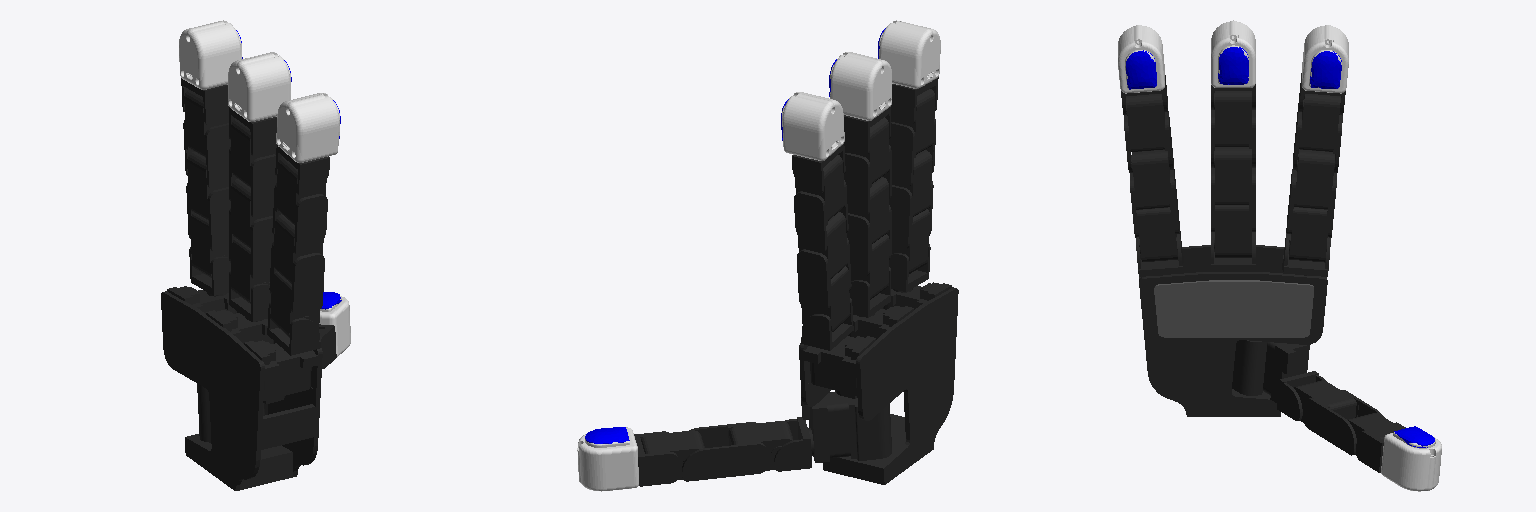
--- Facts derived from the render (not from the file) ---
Views: 3 orthographic renders of the robot side by side, from view 1: azimuth 30°, elevation 25°; view 2: azimuth 150°, elevation 25°; view 3: azimuth 270°, elevation 25°.
Robot: meta_hand — 37 links, 36 joints (16 revolute, 20 fixed); root link base_link; default pose: all joints at 0 but 1 set to mid-range because 0 is outside their limits (joint_12.0 = 0.9078).
Visible links, largest first — view 1: base_link, link_9.0, link_5.0, link_1.0, link_11.0_tip, link_7.0_tip, link_3.0_tip, link_10.0, link_2.0, link_6.0, link_8.0, link_11.0 (+7 smaller); view 2: base_link, link_14.0, link_12.0, link_1.0, link_5.0, link_9.0, link_3.0_tip, link_7.0_tip, link_11.0_tip, link_2.0, link_15.0_tip, link_15.0 (+10 smaller); view 3: base_link, palm_reskin_link, link_1.0, link_9.0, link_5.0, link_12.0, link_14.0, link_15.0_tip, link_2.0, link_10.0, link_6.0, link_11.0_tip (+10 smaller).
Boxes of the visible links, bbox=[...] form: base_link: bbox=[161, 286, 322, 490]; link_9.0: bbox=[269, 214, 324, 337]; link_5.0: bbox=[229, 179, 273, 303]; link_1.0: bbox=[186, 152, 230, 277]; link_11.0_tip: bbox=[276, 93, 339, 162]; link_7.0_tip: bbox=[228, 52, 290, 121]; link_3.0_tip: bbox=[179, 20, 241, 89]; link_10.0: bbox=[272, 156, 327, 256]; link_2.0: bbox=[183, 90, 230, 189]; link_6.0: bbox=[229, 119, 276, 218]; link_8.0: bbox=[267, 302, 320, 355]; link_11.0: bbox=[275, 145, 329, 197]; base_link: bbox=[799, 282, 958, 484]; link_14.0: bbox=[682, 421, 793, 481]; link_12.0: bbox=[801, 390, 891, 462]; link_1.0: bbox=[797, 212, 851, 331]; link_5.0: bbox=[847, 177, 891, 299]; link_9.0: bbox=[889, 150, 933, 273]; link_3.0_tip: bbox=[782, 92, 844, 160]; link_7.0_tip: bbox=[830, 52, 891, 120]; link_11.0_tip: bbox=[879, 20, 940, 88]; link_2.0: bbox=[794, 155, 848, 252]; link_15.0_tip: bbox=[577, 427, 638, 491]; link_15.0: bbox=[634, 430, 704, 486]; base_link: bbox=[1139, 245, 1327, 416]; palm_reskin_link: bbox=[1154, 280, 1313, 337]; link_1.0: bbox=[1287, 149, 1336, 262]; link_9.0: bbox=[1130, 150, 1179, 261]; link_5.0: bbox=[1211, 147, 1255, 257]; link_12.0: bbox=[1232, 340, 1309, 402]; link_14.0: bbox=[1294, 380, 1383, 455]; link_15.0_tip: bbox=[1381, 432, 1441, 491]; link_2.0: bbox=[1293, 94, 1342, 172]; link_10.0: bbox=[1124, 94, 1173, 172]; link_6.0: bbox=[1211, 91, 1255, 167]; link_11.0_tip: bbox=[1118, 25, 1164, 93].
Size in the robot's own frame: 0.1539 by 0.1952 by 0.2538 metres.
26 mesh visuals loaded from 12 distinct referenced files (12 OBJ).

The robot description file, URDF, robot "meta_hand":
<?xml version="1.0" ?>
<!-- =================================================================================== -->
<!-- |    This document was autogenerated by xacro from [local-path]/gum_ws/install/meta_hand_description/share/meta_hand_description/robots/meta_hand.urdf.xacro | -->
<!-- |    EDITING THIS FILE BY HAND IS NOT RECOMMENDED                                 | -->
<!-- =================================================================================== -->
<robot name="meta_hand">
  <!--0.002298-->
  <!-- Adapted from https://github.com/simlabrobotics/allegro_hand_ros/blob/master/allegro_hand_description/allegro_hand_description_left.xacro -->
  <!-- ======================== FINGER PARAMS ======================== -->
  <!-- ========================= THUMB PARAMS ========================= -->
  <!-- ========================= LIMITS ========================= -->
  <!-- ============================================================================= -->
  <!-- ============================================================================= -->
  <!-- ============================================================================= -->
  <!-- END THUMB MACRO -->
  <!-- [[END]] THREE FINGER MACRO -->
  <!-- ============================================================================= -->
  <!-- ============================================================================= -->
  <!-- ============================================================================= -->
  <!-- BASE -->
  <link name="base_link">
    <visual>
      <geometry>
        <mesh filename="./meshes/base_link.obj"/>
      </geometry>
      <origin rpy="0 0 0" xyz="0 0 0 "/>
      <material name="black">
        <color rgba="0.2 0.2 0.2 1"/>
      </material>
    </visual>
    <collision>
      <origin rpy="0 0 0" xyz="-0.009300 0 -0.0475"/>
      <geometry>
        <!-- <box size="0.0408 0.1130 0.095"/> -->
        <box size="0.03 0.07 0.07"/>
      </geometry>
    </collision>
    <inertial>
      <origin rpy="0 0 0" xyz="0 0 0.0475"/>
      <mass value="0.4154"/>
      <inertia ixx="1e-4" ixy="0.0" ixz="0.0" iyy="1e-4" iyz="0.0" izz="1e-4"/>
    </inertial>
  </link>
  <link name="palm_reskin_link">
    <visual>
      <geometry>
        <mesh filename="./meshes/reskin_palm_pad.obj" scale="0.001 0.001 0.001"/>
      </geometry>
      <origin rpy="1.5707963259 0 1.5707963259" xyz="0 0 0 "/>
      <material name="grey">
        <color rgba="0.4 0.4 0.4 1"/>
      </material>
    </visual>
    <collision>
     <geometry>
        <mesh filename="./meshes/reskin_palm_pad.obj" scale="0.001 0.001 0.001"/>
      </geometry>
      <origin rpy="1.5707963259 0 1.5707963259" xyz="0 0 0"/>
    </collision>
  </link>
  <joint name="palm_reskin_joint" type="fixed">
    <parent link="base_link"/>
    <child link="palm_reskin_link"/>
    <!-- <origin rpy="0 0 0" xyz="0.0175 -0.0457 -0.041"/> -->
    <origin rpy="0 0 0" xyz="0.014 -0.0457 -0.041"/>
  </joint>
  <!-- [LINK 0, 4, 8] -->
  <link name="link_0.0">
    <visual>
      <geometry>
        <mesh filename="./meshes/link_0.0.obj"/>
      </geometry>
      <material name="black">
        <color rgba=".2 .2 .2 1"/>
      </material>
    </visual>
    <collision>
      <geometry>
        <box size="0.0196 0.0275 0.0164"/>
      </geometry>
      <origin rpy="0 0 0" xyz="0 0 0.0082"/>
    </collision>
    <inertial>
      <mass value="0.0119"/>
      <origin rpy="0 0 0" xyz="0 0 0"/>
      <inertia ixx="1.01666658333e-06" ixy="0.0" ixz="0.0" iyy="6.47677333333e-07" iyz="0.0" izz="1.01666658333e-06"/>
    </inertial>
  </link>
  <joint name="joint_0.0" type="revolute">
    <axis xyz="0 0 1"/>
    <limit effort="0.35" lower="-0.582" upper="0.547" velocity="6.283"/>
    <parent link="base_link"/>
    <child link="link_0.0"/>
    <origin rpy="-0.08726646254999999 0 0" xyz="0 0.0435 -0.001542"/>
  </joint>
  <!-- [LINK 1, 5, 9] -->
  <link name="link_1.0">
    <visual>
      <geometry>
        <mesh filename="./meshes/link_1.0.obj"/>
      </geometry>
      <material name="black">
        <color rgba=".2 .2 .2 1"/>
      </material>
    </visual>
    <collision>
      <geometry>
        <box size="0.0196 0.0275 0.054"/>
      </geometry>
      <origin rpy="0 0 0" xyz="0 0 0.027"/>
    </collision>
    <inertial>
      <mass value="0.065"/>
      <origin rpy="0 0 0" xyz="0 0 0"/>
      <inertia ixx="7.95654166667e-05" ixy="1.7199e-05" ixz="8.75875e-06" iyy="2.47088833333e-05" iyz="2.413125e-05" izz="7.95654166667e-05"/>
    </inertial>
  </link>
  <joint name="joint_1.0" type="revolute">
    <limit effort="0.35" lower="-0.261" upper="1.734" velocity="6.283"/>
    <axis xyz="0 1 0"/>
    <parent link="link_0.0"/>
    <child link="link_1.0"/>
    <origin xyz="0 0 0.0164"/>
  </joint>
  <!-- [LINK 2, 6, 10]-->
  <link name="link_2.0">
    <visual>
      <geometry>
        <mesh filename="./meshes/link_2.0.obj"/>
      </geometry>
      <material name="black">
        <color rgba=".2 .2 .2 1"/>
      </material>
    </visual>
    <collision>
      <geometry>
        <box size="0.0196 0.0275 0.0384"/>
      </geometry>
      <origin rpy="0 0 0" xyz="0 0 0.0192"/>
    </collision>
    <inertial>
      <mass value="0.0355"/>
      <origin rpy="0 0 0" xyz="0 0 0"/>
      <inertia ixx="2.63979183333e-05" ixy="6.67968e-06" ixz="4.783625e-06" iyy="1.34948516667e-05" iyz="9.372e-06" izz="2.63979183333e-05"/>
    </inertial>
  </link>
  <joint name="joint_2.0" type="revolute">
    <axis xyz="0 1 0"/>
    <limit effort="0.35" lower="-0.271" upper="1.727825" velocity="6.283"/>
    <parent link="link_1.0"/>
    <child link="link_2.0"/>
    <origin xyz="0 0 0.054"/>
  </joint>
  <!-- [LINK 3, 7, 11] -->
  <link name="link_3.0">
    <visual>
      <geometry>
        <mesh filename="./meshes/link_3.0.obj"/>
      </geometry>
      <material name="black">
        <color rgba=".2 .2 .2 1"/>
      </material>
    </visual>
    <collision>
      <geometry>
        <sphere radius="0.0001"/>
      </geometry>
      <origin rpy="0 0 0" xyz="0 0 0.013349999999999999"/>
    </collision>
    <inertial>
      <mass value="0.0096"/>
      <origin rpy="0 0 0" xyz="0 0 0"/>
      <inertia ixx="4.701248e-06" ixy="1.255968e-06" ixz="1.2936e-06" iyy="3.649312e-06" iyz="1.7622e-06" izz="4.701248e-06"/>
    </inertial>
  </link>
  <joint name="joint_3.0" type="revolute">
    <axis xyz="0 1 0"/>
    <limit effort="0.35" lower="-0.281" upper="1.727825" velocity="6.283"/>
    <parent link="link_2.0"/>
    <child link="link_3.0"/>
    <origin xyz="0 0 0.0384"/>
  </joint>
  <!-- [FINGER TIP] -->
  
  <link name="link_3.0_tip">
    <visual>
      <geometry>
        <mesh filename="./meshes/digit.obj"/>
      </geometry>
      <material name="white">
        <color rgba=".9 .9 .9 1"/>
      </material>
    </visual>
    <collision>
      <geometry>
        <mesh filename="./meshes/digit.obj"/>
      </geometry>
      <!-- <origin rpy="0 0 0" xyz="0 0 0"/> -->
      <!-- <origin rpy="0 0 0" xyz="0.0036695246 0.0000277434 0.0124368531"/> -->
    </collision>
    <inertial>
      <mass value="0.0168"/>
      <!-- <origin rpy="0 0 0" xyz="0 0 0"/> -->
      <origin rpy="0 0 0" xyz="0 0 0.0147"/>
      <inertia ixx="9.68e-07" ixy="0" ixz="0" iyy="9.68e-07" iyz="0" izz="9.68e-07"/>
    </inertial>
  </link>
  <joint name="joint_3_tip" type="fixed">
    <parent link="link_3.0"/>
    <child link="link_3.0_tip"/>
    <!-- <origin rpy="0 0 -1.5707963259" xyz="0 0 0.0147"/> -->
    <origin rpy="0 0 0" xyz="0 0 0.0147"/>
    </joint>
  <link name="digit_fingertip_3.0">
    <visual>
       <geometry>
       	   <mesh filename="./meshes/digit_v1_fingertip_pad.obj"/>
       </geometry>
       <material name="blue">
          <color rgba="0 0 1 1" />
       </material>
    </visual>
    <collision>
    	<geometry>
            <mesh filename="./meshes/digit_v1_fingertip_pad.obj"/>
      </geometry>
    </collision>
    <inertial>
      <mass value="0.0168"/>
      <!-- <origin rpy="0 0 0" xyz="0 0 0"/> -->
      <origin rpy="0 0 0" xyz="0 0 0"/>
      <inertia ixx="9.68e-07" ixy="0" ixz="0" iyy="9.68e-07" iyz="0" izz="9.68e-07"/>
    </inertial>
  </link>
  <joint name="joint_3.0_digit_fingertip" type="fixed">
    <parent link="link_3.0_tip"/>
    <child link="digit_fingertip_3.0"/>
    <origin rpy="0 0 0" xyz="0.0005 -0.009 0.0"/>
  </joint>
 
  <link name="reskin_link_1.0a">
    <!-- <visual>
      <geometry>
        <mesh filename="./meshes/reskin_finger_pad.obj" scale="0.001 0.001 0.001"/>
      </geometry>
      <origin rpy="-1.5707963259 0 -1.5707963259" xyz="0 0 0"/>
      <material name="grey">
        <color rgba="0.4 0.4 0.4 1"/>
      </material>
    </visual> -->
      <!-- <collision>
      <geometry>
         <mesh filename="./meshes/reskin_finger_pad.obj" scale="0.001 0.001 0.03"/>
      </geometry>
      <origin rpy="-1.5707963259 0 -1.5707963259" xyz="0 0 0"/>
    </collision> -->
  </link>
  <joint name="reskin_joint_1a" type="fixed">
    <parent link="link_1.0"/>
    <child link="reskin_link_1.0a"/>
    <origin rpy="0 0 0" xyz="0.0118 0.009 0.022"/>
  </joint>
  <link name="reskin_link_1.0b">
    <!-- <visual>
      <geometry>
        <mesh filename="./meshes/reskin_finger_pad.obj" scale="0.001 0.001 0.001"/>
      </geometry>
      <origin rpy="-1.5707963259 0 -1.5707963259" xyz="0 0 0"/>
      <material name="grey">
        <color rgba="0.4 0.4 0.4 1"/>
      </material>
    </visual> -->
    <!-- <collision>
    <geometry>
        <mesh filename="./meshes/reskin_finger_pad.obj" scale="0.001 0.001 0.03"/>
      </geometry>
      <origin rpy="-1.5707963259 0 -1.5707963259" xyz="0 0 0"/>
    </collision> -->
  </link>
  <joint name="reskin_joint_1b" type="fixed">
    <parent link="link_1.0"/>
    <child link="reskin_link_1.0b"/>
    <origin rpy="0 0 0" xyz="0.0118 0.009 0.053"/>
  </joint>
  <link name="reskin_link_2.0">
    <!-- <visual>
      <geometry>
        <mesh filename="./meshes/reskin_finger_pad.obj" scale="0.001 0.001 0.001"/>
      </geometry>
      <origin rpy="-1.5707963259 0 -1.5707963259" xyz="0 0 0"/>
      <material name="grey">
        <color rgba="0.4 0.4 0.4 1"/>
      </material>
    </visual> -->
    <!-- <collision>
    <geometry>
        <mesh filename="./meshes/reskin_finger_pad.obj" scale="0.001 0.001 0.03"/>
      </geometry>
      <origin rpy="-1.5707963259 0 -1.5707963259" xyz="0 0 0"/>
    </collision> -->
  </link>
  <joint name="reskin_joint_2" type="fixed">
    <parent link="link_2.0"/>
    <child link="reskin_link_2.0"/>
    <origin rpy="0 0 0" xyz="0.0118 0.009 0.0375"/>
  </joint>
  <!-- [LINK 0, 4, 8] -->
  <link name="link_4.0">
    <visual>
      <geometry>
        <mesh filename="./meshes/link_0.0.obj"/>
      </geometry>
      <material name="black">
        <color rgba=".2 .2 .2 1"/>
      </material>
    </visual>
    <collision>
      <geometry>
        <box size="0.0196 0.0275 0.0164"/>
      </geometry>
      <origin rpy="0 0 0" xyz="0 0 0.0082"/>
    </collision>
    <inertial>
      <mass value="0.0119"/>
      <origin rpy="0 0 0" xyz="0 0 0"/>
      <inertia ixx="1.01666658333e-06" ixy="0.0" ixz="0.0" iyy="6.47677333333e-07" iyz="0.0" izz="1.01666658333e-06"/>
    </inertial>
  </link>
  <joint name="joint_4.0" type="revolute">
    <axis xyz="0 0 1"/>
    <limit effort="0.35" lower="-0.581" upper="0.560" velocity="6.283"/>
    <parent link="base_link"/>
    <child link="link_4.0"/>
    <origin rpy="0.0 0 0" xyz="0 0 0.0007"/>
  </joint>
  <!-- [LINK 1, 5, 9] -->
  <link name="link_5.0">
    <visual>
      <geometry>
        <mesh filename="./meshes/link_1.0.obj"/>
      </geometry>
      <material name="black">
        <color rgba=".2 .2 .2 1"/>
      </material>
    </visual>
    <collision>
      <geometry>
        <box size="0.0196 0.0275 0.054"/>
      </geometry>
      <origin rpy="0 0 0" xyz="0 0 0.027"/>
    </collision>
    <inertial>
      <mass value="0.065"/>
      <origin rpy="0 0 0" xyz="0 0 0"/>
      <inertia ixx="7.95654166667e-05" ixy="1.7199e-05" ixz="8.75875e-06" iyy="2.47088833333e-05" iyz="2.413125e-05" izz="7.95654166667e-05"/>
    </inertial>
  </link>
  <joint name="joint_5.0" type="revolute">
    <limit effort="0.35" lower="-0.260" upper="1.7703" velocity="6.283"/>
    <axis xyz="0 1 0"/>
    <parent link="link_4.0"/>
    <child link="link_5.0"/>
    <origin xyz="0 0 0.0164"/>
  </joint>
  <!-- [LINK 2, 6, 10]-->
  <link name="link_6.0">
    <visual>
      <geometry>
        <mesh filename="./meshes/link_2.0.obj"/>
      </geometry>
      <material name="black">
        <color rgba=".2 .2 .2 1"/>
      </material>
    </visual>
    <collision>
      <geometry>
        <box size="0.0196 0.0275 0.0384"/>
      </geometry>
      <origin rpy="0 0 0" xyz="0 0 0.0192"/>
    </collision>
    <inertial>
      <mass value="0.0355"/>
      <origin rpy="0 0 0" xyz="0 0 0"/>
      <inertia ixx="2.63979183333e-05" ixy="6.67968e-06" ixz="4.783625e-06" iyy="1.34948516667e-05" iyz="9.372e-06" izz="2.63979183333e-05"/>
    </inertial>
  </link>
  <joint name="joint_6.0" type="revolute">
    <axis xyz="0 1 0"/>
    <limit effort="0.35" lower="-0.305" upper="1.296" velocity="6.283"/>
    <parent link="link_5.0"/>
    <child link="link_6.0"/>
    <origin xyz="0 0 0.054"/>
  </joint>
  <!-- [LINK 3, 7, 11] -->
  <link name="link_7.0">
    <visual>
      <geometry>
        <mesh filename="./meshes/link_3.0.obj"/>
      </geometry>
      <material name="black">
        <color rgba=".2 .2 .2 1"/>
      </material>
    </visual>
    <collision>
      <geometry>
        <sphere radius="0.0001"/>
      </geometry>
      <origin rpy="0 0 0" xyz="0 0 0.013349999999999999"/>
    </collision>
    <inertial>
      <mass value="0.0096"/>
      <origin rpy="0 0 0" xyz="0 0 0"/>
      <inertia ixx="4.701248e-06" ixy="1.255968e-06" ixz="1.2936e-06" iyy="3.649312e-06" iyz="1.7622e-06" izz="4.701248e-06"/>
    </inertial>
  </link>
  <joint name="joint_7.0" type="revolute">
    <axis xyz="0 1 0"/>
    <limit effort="0.35" lower="-0.3047" upper="1.176" velocity="6.283"/>
    <parent link="link_6.0"/>
    <child link="link_7.0"/>
    <origin xyz="0 0 0.0384"/>
  </joint>
  <!-- [FINGER TIP] -->
  <link name="link_7.0_tip">
    <visual>
      <geometry>
        <mesh filename="./meshes/digit.obj"/>
      </geometry>
      <material name="white">
        <color rgba=".9 .9 .9 1"/>
      </material>
    </visual>
    <collision>
      <geometry>
        <mesh filename="./meshes/digit.obj"/>
      </geometry>
      <origin rpy="0 0 0" xyz="0 0 0"/>
      <!-- <origin rpy="0 0 0" xyz="0.0036695246 0.0000277434 0.0124368531"/> -->
    </collision>
    <inertial>
      <mass value="0.0168"/>
      <!-- <origin rpy="0 0 0" xyz="0 0 0"/> -->
      <origin rpy="0 0 0" xyz="0 0 0.0147"/>
      <inertia ixx="9.68e-07" ixy="0" ixz="0" iyy="9.68e-07" iyz="0" izz="9.68e-07"/>
    </inertial>
  </link>
  <joint name="joint_7_tip" type="fixed">
    <parent link="link_7.0"/>
    <child link="link_7.0_tip"/>
    <origin rpy="0 0 0" xyz="0 0 0.0147"/>
  </joint>
    <link name="digit_fingertip_7.0">
    <visual>
       <geometry>
       	   <mesh filename="./meshes/digit_v1_fingertip_pad.obj"/>
       </geometry>
       <material name="blue">
          <color rgba="0 0 1 1" />
       </material>
    </visual>
    <collision>
    	<geometry>
            <mesh filename="./meshes/digit_v1_fingertip_pad.obj"/>
      </geometry>
    </collision>
    <inertial>
      <mass value="0.0168"/>
      <!-- <origin rpy="0 0 0" xyz="0 0 0"/> -->
      <origin rpy="0 0 0" xyz="0 0 0"/>
      <inertia ixx="9.68e-07" ixy="0" ixz="0" iyy="9.68e-07" iyz="0" izz="9.68e-07"/>
    </inertial>
  </link>
  <joint name="joint_7.0_digit_fingertip" type="fixed">
    <parent link="link_7.0_tip"/>
    <child link="digit_fingertip_7.0"/>
    <origin rpy="0 0 0" xyz="0.0005 -0.009 0.0"/>
  </joint>
  <link name="reskin_link_5.0a">
    <!-- <visual>
      <geometry>
        <mesh filename="./meshes/reskin_finger_pad.obj" scale="0.001 0.001 0.001"/>
      </geometry>
      <origin rpy="-1.5707963259 0 -1.5707963259" xyz="0 0 0"/>
      <material name="grey">
        <color rgba="0.4 0.4 0.4 1"/>
      </material>
    </visual> -->
    <!-- <collision>
    <geometry>
        <mesh filename="./meshes/reskin_finger_pad.obj" scale="0.001 0.001 0.03"/>
      </geometry>
      <origin rpy="-1.5707963259 0 -1.5707963259" xyz="0 0 0"/>
    </collision> -->
  </link>
  <joint name="reskin_joint_5a" type="fixed">
    <parent link="link_5.0"/>
    <child link="reskin_link_5.0a"/>
    <origin rpy="0 0 0" xyz="0.0118 0.009 0.022"/>
  </joint>
  <link name="reskin_link_5.0b">
    <!-- <visual>
      <geometry>
        <mesh filename="./meshes/reskin_finger_pad.obj" scale="0.001 0.001 0.001"/>
      </geometry>
      <origin rpy="-1.5707963259 0 -1.5707963259" xyz="0 0 0"/>
      <material name="grey">
        <color rgba="0.4 0.4 0.4 1"/>
      </material>
    </visual> -->
    <!-- <collision>
    <geometry>
        <mesh filename="./meshes/reskin_finger_pad.obj" scale="0.001 0.001 0.03"/>
      </geometry>
      <origin rpy="-1.5707963259 0 -1.5707963259" xyz="0 0 0"/>
    </collision> -->
  </link>
  <joint name="reskin_joint_5b" type="fixed">
    <parent link="link_5.0"/>
    <child link="reskin_link_5.0b"/>
    <origin rpy="0 0 0" xyz="0.0118 0.009 0.053"/>
  </joint>
  <link name="reskin_link_6.0">
    <!-- <visual>
      <geometry>
        <mesh filename="./meshes/reskin_finger_pad.obj" scale="0.001 0.001 0.001"/>
      </geometry>
      <origin rpy="-1.5707963259 0 -1.5707963259" xyz="0 0 0"/>
      <material name="grey">
        <color rgba="0.4 0.4 0.4 1"/>
      </material>
    </visual> -->
    <!-- <collision>
        <geometry>
        <mesh filename="./meshes/reskin_finger_pad.obj" scale="0.001 0.001 0.03"/>
        </geometry>
      <origin rpy="-1.5707963259 0 -1.5707963259" xyz="0 0 0"/>
    </collision> -->
  </link>
  <joint name="reskin_joint_6" type="fixed">
    <parent link="link_6.0"/>
    <child link="reskin_link_6.0"/>
    <origin rpy="0 0 0" xyz="0.0118 0.009 0.0375"/>
  </joint>
  <!-- [LINK 0, 4, 8] -->
  <link name="link_8.0">
    <visual>
      <geometry>
        <mesh filename="./meshes/link_0.0.obj"/>
      </geometry>
      <material name="black">
        <color rgba=".2 .2 .2 1"/>
      </material>
    </visual>
    <collision>
      <geometry>
        <box size="0.0196 0.0275 0.0164"/>
      </geometry>
      <origin rpy="0 0 0" xyz="0 0 0.0082"/>
    </collision>
    <inertial>
      <mass value="0.0119"/>
      <origin rpy="0 0 0" xyz="0 0 0"/>
      <inertia ixx="1.01666658333e-06" ixy="0.0" ixz="0.0" iyy="6.47677333333e-07" iyz="0.0" izz="1.01666658333e-06"/>
    </inertial>
  </link>
  <joint name="joint_8.0" type="revolute">
    <axis xyz="0 0 1"/>
    <limit effort="0.35" lower="-0.584" upper="0.554" velocity="6.283"/>
    <parent link="base_link"/>
    <child link="link_8.0"/>
    <origin rpy="0.08726646254999999 0 0" xyz="0 -0.0435 -0.001542"/>
  </joint>
  <!-- [LINK 1, 5, 9] -->
  <link name="link_9.0">
    <visual>
      <geometry>
        <mesh filename="./meshes/link_1.0.obj"/>
      </geometry>
      <material name="black">
        <color rgba=".2 .2 .2 1"/>
      </material>
    </visual>
    <collision>
      <geometry>
        <box size="0.0196 0.0275 0.054"/>
      </geometry>
      <origin rpy="0 0 0" xyz="0 0 0.027"/>
    </collision>
    <inertial>
      <mass value="0.065"/>
      <origin rpy="0 0 0" xyz="0 0 0"/>
      <inertia ixx="7.95654166667e-05" ixy="1.7199e-05" ixz="8.75875e-06" iyy="2.47088833333e-05" iyz="2.413125e-05" izz="7.95654166667e-05"/>
    </inertial>
  </link>
  <joint name="joint_9.0" type="revolute">
    <limit effort="0.35" lower="-0.257" upper="1.752" velocity="6.283"/>
    <axis xyz="0 1 0"/>
    <parent link="link_8.0"/>
    <child link="link_9.0"/>
    <origin xyz="0 0 0.0164"/>
  </joint>
  <!-- [LINK 2, 6, 10]-->
  <link name="link_10.0">
    <visual>
      <geometry>
        <mesh filename="./meshes/link_2.0.obj"/>
      </geometry>
      <material name="black">
        <color rgba=".2 .2 .2 1"/>
      </material>
    </visual>
    <collision>
      <geometry>
        <box size="0.0196 0.0275 0.0384"/>
      </geometry>
      <origin rpy="0 0 0" xyz="0 0 0.0192"/>
    </collision>
    <inertial>
      <mass value="0.0355"/>
      <origin rpy="0 0 0" xyz="0 0 0"/>
      <inertia ixx="2.63979183333e-05" ixy="6.67968e-06" ixz="4.783625e-06" iyy="1.34948516667e-05" iyz="9.372e-06" izz="2.63979183333e-05"/>
    </inertial>
  </link>
  <joint name="joint_10.0" type="revolute">
    <axis xyz="0 1 0"/>
    <limit effort="0.35" lower="-0.263" upper="1.346" velocity="6.283"/>
    <parent link="link_9.0"/>
    <child link="link_10.0"/>
    <origin xyz="0 0 0.054"/>
  </joint>
  <!-- [LINK 3, 7, 11] -->
  <link name="link_11.0">
    <visual>
      <geometry>
        <mesh filename="./meshes/link_3.0.obj"/>
      </geometry>
      <material name="black">
        <color rgba=".2 .2 .2 1"/>
      </material>
    </visual>
    <collision>
      <geometry>
        <sphere radius="0.0001"/>
      </geometry>
      <origin rpy="0 0 0" xyz="0 0 0.013349999999999999"/>
    </collision>
    <inertial>
      <mass value="0.0096"/>
      <origin rpy="0 0 0" xyz="0 0 0"/>
      <inertia ixx="4.701248e-06" ixy="1.255968e-06" ixz="1.2936e-06" iyy="3.649312e-06" iyz="1.7622e-06" izz="4.701248e-06"/>
    </inertial>
  </link>
  <joint name="joint_11.0" type="revolute">
    <axis xyz="0 1 0"/>
    <limit effort="0.35" lower="-0.284" upper="1.170" velocity="6.283"/>
    <parent link="link_10.0"/>
    <child link="link_11.0"/>
    <origin xyz="0 0 0.0384"/>
  </joint>
  <!-- [FINGER TIP] -->
  <link name="link_11.0_tip">
    <visual>
      <geometry>
        <mesh filename="./meshes/digit.obj"/>
      </geometry>
      <material name="white">
        <color rgba=".9 .9 .9 1"/>
      </material>
    </visual>
    <collision>
      <geometry>
       <mesh filename="./meshes/digit.obj"/>
      </geometry>
      <origin rpy="0 0 0" xyz="0 0 0"/>
      <origin rpy="0 0 0" xyz="0.0036695246 0.0000277434 0.0124368531"/> 
      <origin rpy="0 0 0" xyz="0 0 0"/>
    </collision> 
    <inertial>
      <mass value="0.0168"/>
      <!-- <origin rpy="0 0 0" xyz="0 0 0"/> -->
      
      <inertia ixx="9.68e-07" ixy="0" ixz="0" iyy="9.68e-07" iyz="0" izz="9.68e-07"/>
    </inertial>
  </link>
  <joint name="joint_11_tip" type="fixed">
    <parent link="link_11.0"/>
    <child link="link_11.0_tip"/>
    <!-- <origin rpy="0 0 1.5707963259" xyz="0 0 0.0147"/> -->
    <origin rpy="0 0 0" xyz="0 0 0.0147"/>
  </joint>

  <link name="digit_fingertip_11.0">
    <visual>
       <geometry>
       	   <mesh filename="./meshes/digit_v1_fingertip_pad.obj"/>
       </geometry>
       <material name="blue">
          <color rgba="0 0 1 1" />
       </material>
    </visual>
    <collision>
    	<geometry>
            <mesh filename="./meshes/digit_v1_fingertip_pad.obj"/>
      </geometry>
      
    </collision>
    <inertial>
      <mass value="0.0168"/>
      <!-- <origin rpy="0 0 0" xyz="0 0 0"/> -->
      <origin rpy="0 0 0" xyz="0 0 0"/>
      <inertia ixx="9.68e-07" ixy="0" ixz="0" iyy="9.68e-07" iyz="0" izz="9.68e-07"/>
    </inertial>
  </link>
  <joint name="joint_11.0_digit_fingertip" type="fixed">
    <parent link="link_11.0"/>
    <child link="digit_fingertip_11.0"/>
    <origin rpy="0 0 0" xyz="0.0005 -0.009 0.0147"/>
  </joint>

  <link name="reskin_link_9.0a">
    <!-- <visual>
      <geometry>
        <mesh filename="./meshes/reskin_finger_pad.obj" scale="0.001 0.001 0.001"/>
      </geometry>
      <origin rpy="-1.5707963259 0 -1.5707963259" xyz="0 0 0"/>
      <material name="grey">
        <color rgba="0.4 0.4 0.4 1"/>
      </material>
    </visual> -->
    <!-- <collision>
    <geometry>
        <mesh filename="./meshes/reskin_finger_pad.obj" scale="0.001 0.001 0.03"/>
      </geometry>
      <origin rpy="-1.5707963259 0 -1.5707963259" xyz="0 0 0"/>
    </collision> -->
  </link>
  <joint name="reskin_joint_9a" type="fixed">
    <parent link="link_9.0"/>
    <child link="reskin_link_9.0a"/>
    <origin rpy="0 0 0" xyz="0.0118 0.009 0.022"/>
  </joint>
  <link name="reskin_link_9.0b">
    <!-- <visual>
      <geometry>
        <mesh filename="./meshes/reskin_finger_pad.obj" scale="0.001 0.001 0.001"/>
      </geometry>
      <origin rpy="-1.5707963259 0 -1.5707963259" xyz="0 0 0"/>
      <material name="grey">
        <color rgba="0.4 0.4 0.4 1"/>
      </material>
    </visual> -->
    <!-- <collision>
    <geometry>
        <mesh filename="./meshes/reskin_finger_pad.obj" scale="0.001 0.001 0.03"/>
      </geometry>
      <origin rpy="-1.5707963259 0 -1.5707963259" xyz="0 0 0"/>
    </collision> -->
  </link>
  <joint name="reskin_joint_9b" type="fixed">
    <parent link="link_9.0"/>
    <child link="reskin_link_9.0b"/>
    <origin rpy="0 0 0" xyz="0.0118 0.009 0.053"/>
  </joint>
  <link name="reskin_link_10.0">
    <!-- <visual>
      <geometry>
        <mesh filename="./meshes/reskin_finger_pad.obj" scale="0.001 0.001 0.001"/>
      </geometry>
      <origin rpy="-1.5707963259 0 -1.5707963259" xyz="0 0 0"/>
      <material name="grey">
        <color rgba="0.4 0.4 0.4 1"/>
      </material>
    </visual> -->
    <!-- <collision>
      <geometry>
        <mesh filename="./meshes/reskin_finger_pad.obj" scale="0.001 0.001 0.03"/>
      </geometry>
      <origin rpy="-1.5707963259 0 -1.5707963259" xyz="0 0 0"/>
    </collision> -->
  </link>
  <joint name="reskin_joint_10" type="fixed">
    <parent link="link_10.0"/>
    <child link="reskin_link_10.0"/>
    <origin rpy="0 0 0" xyz="0.0118 0.009 0.0375"/>
  </joint>
  <!-- [LINK 12] -->
  <link name="link_12.0">
    <visual>
      <geometry>
        <mesh filename="./meshes/link_12.0_right.obj"/>
      </geometry>
      <material name="black">
        <color rgba=".2 .2 .2 1"/>
      </material>
    </visual>
    <collision>
      <geometry>
        <box size="0.0358 0.034 0.0455"/>
      </geometry>
      <origin rpy="0 0 0" xyz="-0.0179 0.009 0.0145"/>
    </collision>
    <inertial>
      <mass value="0.0176"/>
      <origin rpy="0 0 0" xyz="0 0 0"/>
      <inertia ixx="1.89273333333e-5" ixy="7.16716e-06" ixz="5.35568e-06" iyy="1.43008213333e-05" iyz="6.8068e-06" izz="1.89273333333e-05"/>
    </inertial>
  </link>
  <joint name="joint_12.0" type="revolute">
    <axis xyz="-1 0 0"/>
    <limit effort="0.35" lower="0.254" upper="1.5616" velocity="6.283"/>
    <parent link="base_link"/>
    <child link="link_12.0"/>
    <origin rpy="0 -1.6580627884499999 -1.5707963259" xyz="-0.0182 0.019333 -0.045987"/>
  </joint>
  <!-- [LINK 13] -->
  <link name="link_13.0">
    <visual>
      <geometry>
        <mesh filename="./meshes/link_13.0.obj"/>
      </geometry>
      <material name="black">
        <color rgba=".2 .2 .2 1"/>
      </material>
    </visual>
    <collision>
      <geometry>
        <box size="0.0196 0.0275 0.0177"/>
      </geometry>
      <origin rpy="0 0 0" xyz="0 0 0.00885"/>
    </collision>
    <inertial>
      <mass value="0.0119"/>
      <origin rpy="0 0 0" xyz="0 0 0"/>
      <inertia ixx="4.24250866667e-06" ixy="1.032087e-06" ixz="1.603525e-06" iyy="4.52362633333e-06" iyz="1.44808125e-06" izz="4.24250866667e-06"/>
    </inertial>
  </link>
  <joint name="joint_13.0" type="revolute">
    <axis xyz="0 0 1"/>
    <limit effort="0.35" lower="-0.343" upper="1.167" velocity="6.283"/>
    <parent link="link_12.0"/>
    <child link="link_13.0"/>
    <origin xyz="-0.027 0.005 0.0399"/>
  </joint>
  <!-- [LINK 14] -->
  <link name="link_14.0">
    <visual>
      <geometry>
        <mesh filename="./meshes/link_14.0.obj"/>
      </geometry>
      <material name="black">
        <color rgba=".2 .2 .2 1"/>
      </material>
    </visual>
    <collision>
      <geometry>
        <box size="0.0196 0.0275 0.0514"/>
      </geometry>
      <origin rpy="0 0 0" xyz="0 0 0.0257"/>
    </collision>
    <inertial>
      <mass value="0.038"/>
      <origin rpy="0 0 0" xyz="0 0 0"/>
      <inertia ixx="4.30439933333e-05" ixy="9.57068e-06" ixz="5.1205e-06" iyy="1.44451933333e-05" iyz="1.342825e-05" izz="4.30439933333e-05"/>
    </inertial>
  </link>
  <joint name="joint_14.0" type="revolute">
    <axis xyz="0 1 0"/>
    <limit effort="0.35" lower="-0.239" upper="1.055" velocity="6.238"/>
    <parent link="link_13.0"/>
    <child link="link_14.0"/>
    <origin xyz="0 0 0.0177"/>
  </joint>
  <!-- [LINK 15] -->
  <link name="link_15.0">
    <visual>
      <geometry>
        <mesh filename="./meshes/link_15.0.obj"/>
      </geometry>
      <material name="black">
        <color rgba=".2 .2 .2 1"/>
      </material>
    </visual>
    <collision>
      <geometry>
        <sphere radius="0.0001"/>
      </geometry>
      <origin rpy="0 0 0" xyz="0 0 0.021150000000000002"/>
    </collision>
    <inertial>
      <mass value="0.0388"/>
      <origin rpy="0 0 0" xyz="0 0 0"/>
      <inertia ixx="3.29223173333e-05" ixy="8.042076e-06" ixz="5.2283e-06" iyy="1.47493026667e-5" iyz="1.1283525e-5" izz="3.29223173333e-05"/>
    </inertial>
  </link>
  <joint name="joint_15.0" type="revolute">
    <axis xyz="0 1 0"/>
    <limit effort="0.35" lower="-0.262" upper="1.783" velocity="6.238"/>
    <parent link="link_14.0"/>
    <child link="link_15.0"/>
    <origin xyz="0 0 0.0514"/>
  </joint>
  <!-- [FINGER TIP] -->
  <link name="link_15.0_tip">
    <visual>
      <geometry>
        <mesh filename="./meshes/digit.obj"/>
      </geometry>
      <material name="white">
        <color rgba=".9 .9 .9 1"/>
      </material>
    </visual>
    <collision>
      <geometry>
        <mesh filename="./meshes/digit.obj"/>
      </geometry>
      <!-- <origin rpy="0 0 0" xyz="0 0 0"/>
      <origin rpy="0 0 0" xyz="0.0036695246 0.0000277434 0.0124368531"/> -->
    </collision>
  </link>
  <joint name="joint_15_tip" type="fixed">
    <parent link="link_15.0"/>
    <child link="link_15.0_tip"/>
    <!-- <origin rpy="0 0 -1.0471975506" xyz="0 0 0.0303"/> -->
    <origin rpy="0 0 0" xyz="0 0 0.0303"/>
  </joint>
  <link name="digit_fingertip_15.0">
    <visual>
       <geometry>
       	   <mesh filename="./meshes/digit_v1_fingertip_pad.obj"/>
       </geometry>
       <material name="blue">
          <color rgba="0 0 1 1" />
       </material>
    </visual>
    <collision>
    	<geometry>
            <mesh filename="./meshes/digit_v1_fingertip_pad.obj"/>
      </geometry>
    </collision>
    <inertial>
      <mass value="0.0168"/>
      <!-- <origin rpy="0 0 0" xyz="0 0 0"/> -->
      <origin rpy="0 0 0" xyz="0 0 0"/>
      <inertia ixx="9.68e-07" ixy="0" ixz="0" iyy="9.68e-07" iyz="0" izz="9.68e-07"/>
    </inertial>
  </link>
  <joint name="joint_15.0_digit_fingertip" type="fixed">
    <parent link="link_15.0_tip"/>
    <child link="digit_fingertip_15.0"/>
    <origin rpy="0 0 0" xyz="0.0005 -0.009 0.0"/>
  </joint>

  
  <link name="reskin_link_14.0">
    <!-- <visual>
      <geometry>
        <mesh filename="./meshes/reskin_finger_pad.obj" scale="0.001 0.001 0.001"/>
      </geometry>
      <origin rpy="-1.5707963259 0 -1.5707963259" xyz="0 0 0"/>
      <material name="grey">
        <color rgba="0.4 0.4 0.4 1"/>
      </material>
    </visual> -->
    <!--<collision>
      <geometry>
        <mesh filename="./meshes/reskin_finger_pad.obj" scale="0.001 0.001 0.03"/>
      </geometry>
      <origin rpy="-1.5707963259 0 -1.5707963259" xyz="0 0 0"/>
    </collision> -->
  </link>
  <joint name="reskin_joint_14" type="fixed">
    <parent link="link_14.0"/>
    <child link="reskin_link_14.0"/>
    <origin rpy="0 0 0" xyz="0.0118 0.009 0.022"/>
  </joint>
  <link name="reskin_link_15.0">
    <!-- <visual>
      <geometry>
        <mesh filename="./meshes/reskin_finger_pad.obj" scale="0.001 0.001 0.001"/>
      </geometry>
      <origin rpy="-1.5707963259 0 -1.5707963259" xyz="0 0 0"/>
      <material name="grey">
        <color rgba="0.4 0.4 0.4 1"/>
      </material>
    </visual> -->
    <!-- <collision>
     <geometry>
        <mesh filename="./meshes/reskin_finger_pad.obj" scale="0.001 0.001 0.03"/>
      </geometry>
      <origin rpy="-1.5707963259 0 -1.5707963259" xyz="0 0 0"/>
      </collision> -->
  </link>
  <joint name="reskin_joint_15" type="fixed">
    <parent link="link_15.0"/>
    <child link="reskin_link_15.0"/>
    <origin rpy="0 0 0" xyz="0.0118 0.009 0.022"/>
  </joint>
</robot>
